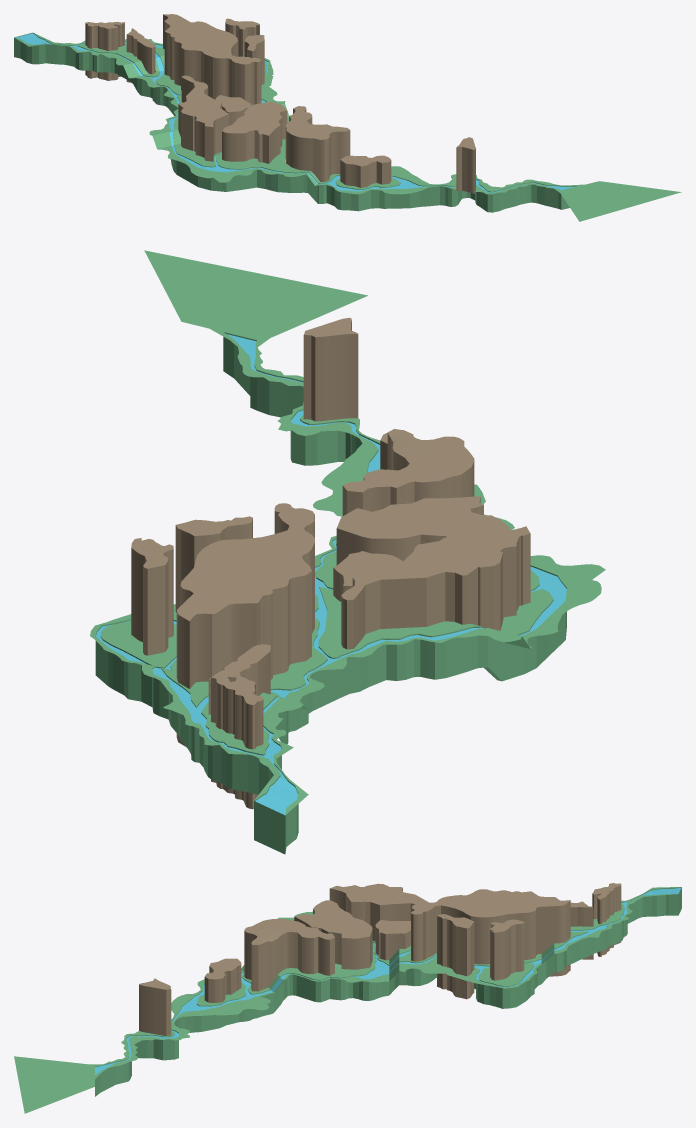
The model's file is YesodVer1.fbx.
The picture shows the model from 3 angles, top to bottom: view 1: azimuth 30°, elevation 25°; view 2: azimuth 150°, elevation 25°; view 3: azimuth 270°, elevation 25°; orthographic projection. The views are drawn at different scales.
Visible parts, largest first — view 1: polySurface34, polySurface21, polySurface36; view 2: polySurface34, polySurface21, polySurface36; view 3: polySurface34, polySurface21, polySurface36.
Part boxes in pixels (left/top/right/bottom): polySurface34: left=85, top=14, right=475, bottom=193; polySurface21: left=14, top=32, right=681, bottom=221; polySurface36: left=16, top=33, right=574, bottom=192; polySurface34: left=131, top=317, right=530, bottom=809; polySurface21: left=90, top=250, right=605, bottom=854; polySurface36: left=96, top=334, right=566, bottom=815; polySurface34: left=139, top=883, right=621, bottom=1035; polySurface21: left=14, top=887, right=681, bottom=1113; polySurface36: left=95, top=887, right=681, bottom=1074.
Size of the model in its own units: 23.71 by 5.06 by 33.76.
